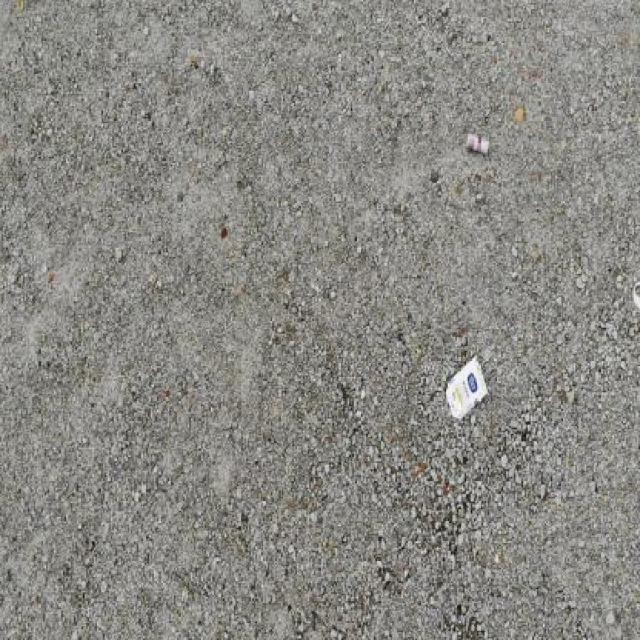Garbage: (445, 352, 488, 421), (466, 131, 489, 155)
